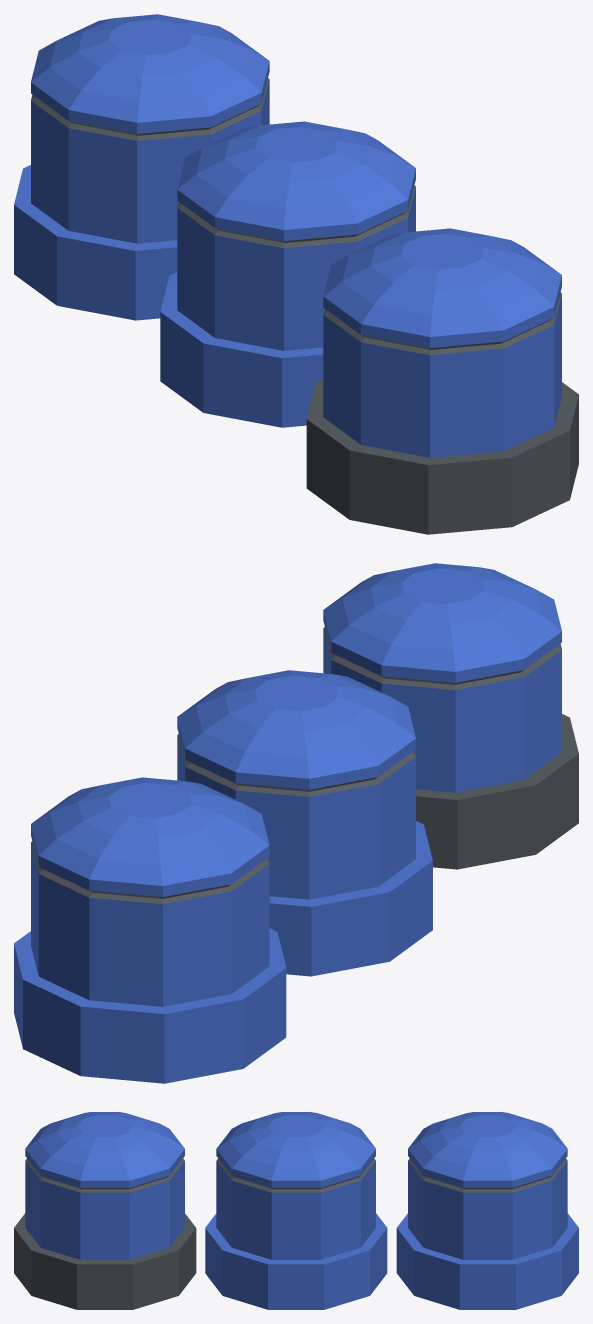
The model's file is Mothership_01_Vessels_Blue.fbx.
The picture shows the model from 3 angles, top to bottom: view 1: azimuth 30°, elevation 25°; view 2: azimuth 150°, elevation 25°; view 3: azimuth 270°, elevation 25°; orthographic projection. The views are drawn at different scales.
Parts seen in each view (by area): view 1: Mothership_01_Vessels_Blue; view 2: Mothership_01_Vessels_Blue; view 3: Mothership_01_Vessels_Blue.
Boxes of the visible parts, x1=… form: Mothership_01_Vessels_Blue: x1=14, y1=14, x2=578, y2=534; Mothership_01_Vessels_Blue: x1=14, y1=563, x2=578, y2=1083; Mothership_01_Vessels_Blue: x1=14, y1=1112, x2=578, y2=1309.
Bounding box in the file's own units: 733 × 686 × 2391.
Materials: 1 (1 with a texture image).
